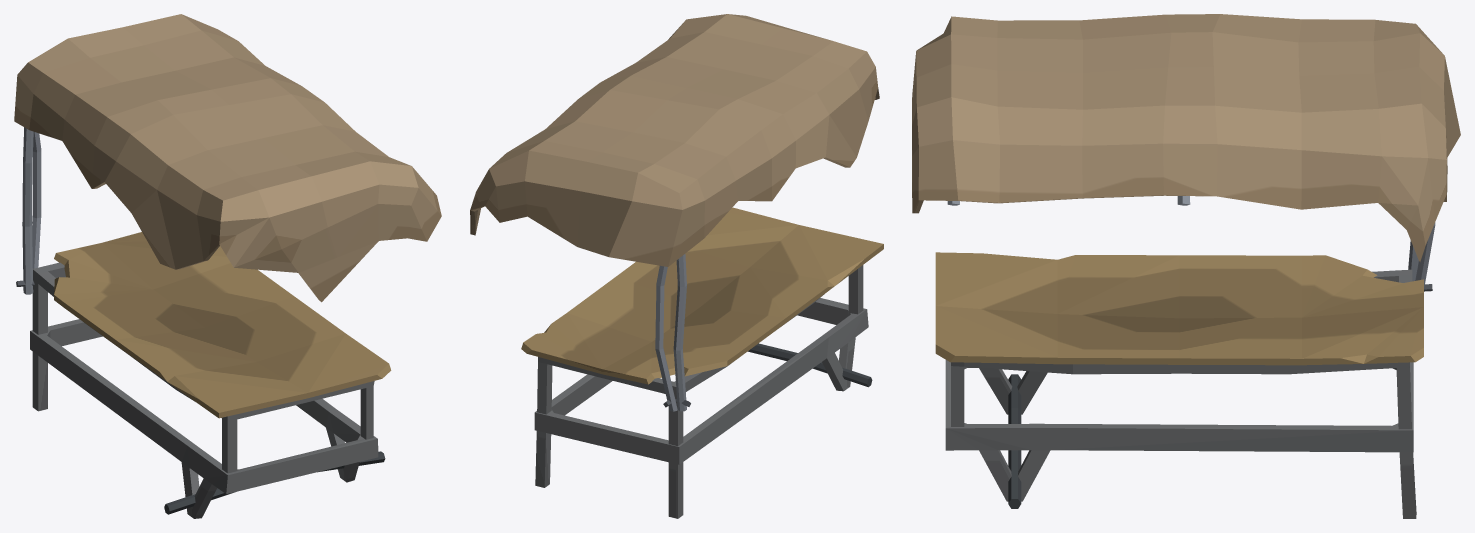
Rendered from SM_Prop_Cart_Stall_01.fbx.
3 views of the same model, side by side, from view 1: azimuth 30°, elevation 25°; view 2: azimuth 150°, elevation 25°; view 3: azimuth 270°, elevation 25° (orthographic). The views are drawn at different scales.
Parts seen in each view (by area): view 1: SM_Prop_Cart_Stall_01; view 2: SM_Prop_Cart_Stall_01; view 3: SM_Prop_Cart_Stall_01.
Boxes of the visible parts, x1,y1,x2,y2 form: SM_Prop_Cart_Stall_01: [14, 14, 441, 518]; SM_Prop_Cart_Stall_01: [470, 14, 883, 518]; SM_Prop_Cart_Stall_01: [912, 14, 1460, 518].
Size of the model in its own units: 168 by 232 by 272.
